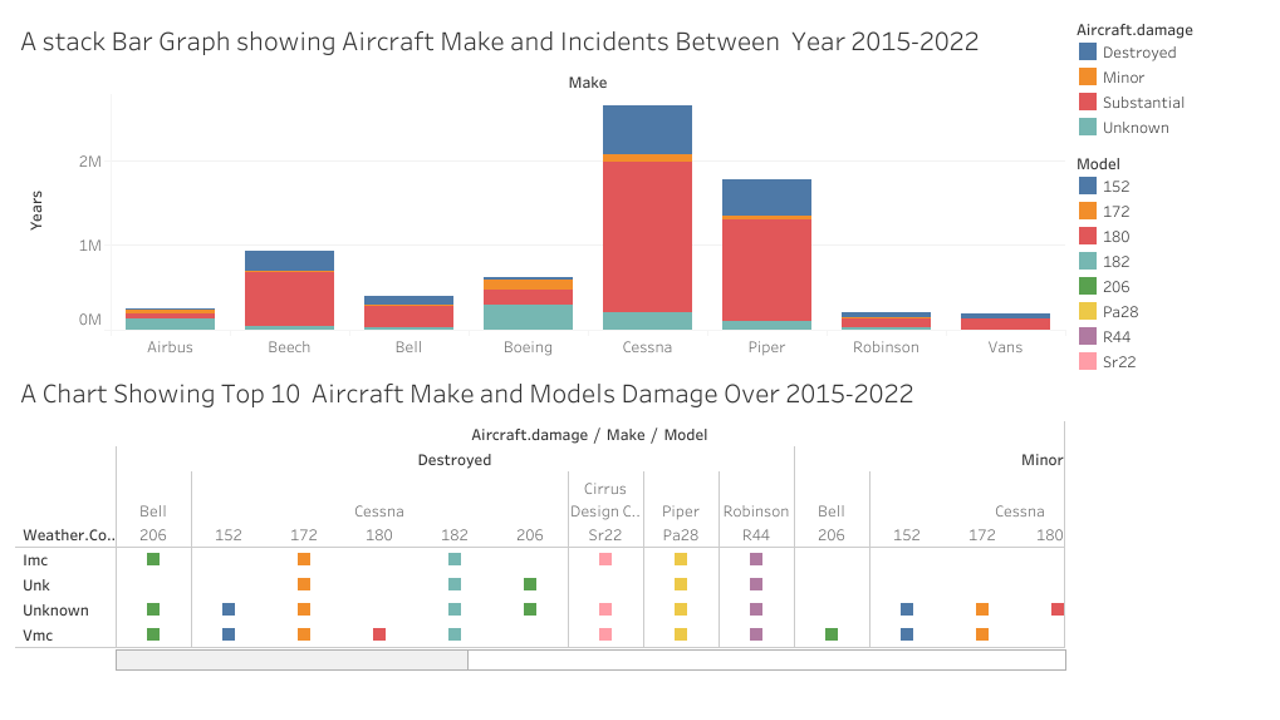

What the dashboard file says about the page in this screenshot:
{"tool":"tableau","page":{"name":"Dashboard 1","canvas":[1000,1000],"units":"permille","ordinal":0},"visuals":[{"type":"worksheet","title":"A stack Bar Graph showing Aircraft Make and Incidents Between  Year 2015-2022","mark":"Automatic","rows":["Years"],"cols":["Make"],"box":[7.8,14.3,827.5,485.7]},{"type":"legend","title":"A stack Bar Graph showing Aircraft Make and Incidents Between  Year 2015-2022","param":"[federated.1auh0wk04e1b7c127u0iu0fo1hmw].[none:Aircraft.damage:nk]","box":[835.3,14.3,156.9,189.3]},{"type":"legend","title":"A Chart Showing Top 10  Aircraft Make and Models Damage Over 2015-2022","param":"[federated.1auh0wk04e1b7c127u0iu0fo1hmw].[none:Model:nk]","box":[835.3,203.6,156.9,332.2]},{"type":"worksheet","title":"A Chart Showing Top 10  Aircraft Make and Models Damage Over 2015-2022","mark":"Automatic","rows":["Weather.Condition"],"cols":["Aircraft.damage","Make","Model"],"box":[7.8,500,827.5,485.7]}]}

Visuals, with their boxes on the dashboard's canvas, which has no fixed pixel size, in thousandths of its width and height (x1, y1, x2, y2). These are canvas units, not pixel positions in the 1280x720 screenshot, which may show the page scaled, cropped or inside an application window:
"A stack Bar Graph showing Aircraft Make and Incidents Between  Year 2015-2022" worksheet: [x1=8, y1=14, x2=835, y2=500]
"A stack Bar Graph showing Aircraft Make and Incidents Between  Year 2015-2022" legend: [x1=835, y1=14, x2=992, y2=204]
"A Chart Showing Top 10  Aircraft Make and Models Damage Over 2015-2022" legend: [x1=835, y1=204, x2=992, y2=536]
"A Chart Showing Top 10  Aircraft Make and Models Damage Over 2015-2022" worksheet: [x1=8, y1=500, x2=835, y2=986]
